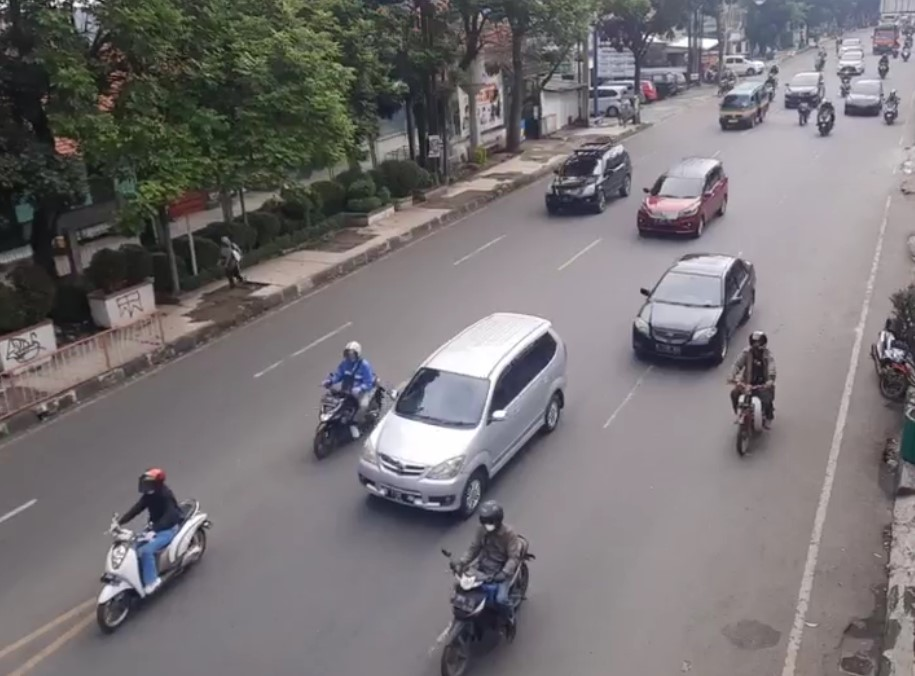motor: (95, 472, 211, 630), (436, 507, 537, 671), (309, 331, 386, 457), (728, 334, 782, 464)
